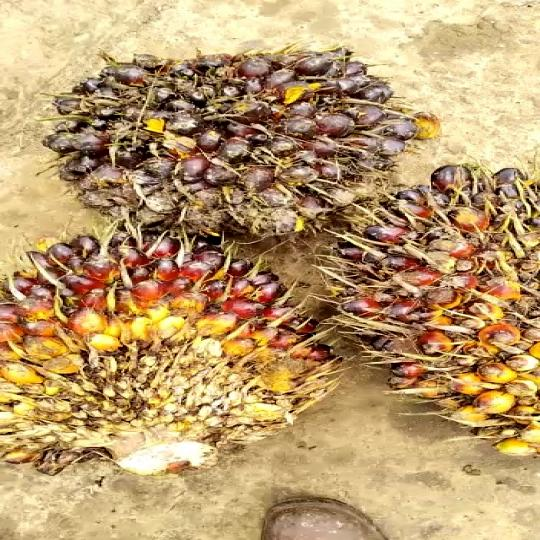kurang masak: (0, 220, 368, 484), (63, 36, 439, 246), (300, 149, 540, 476)
